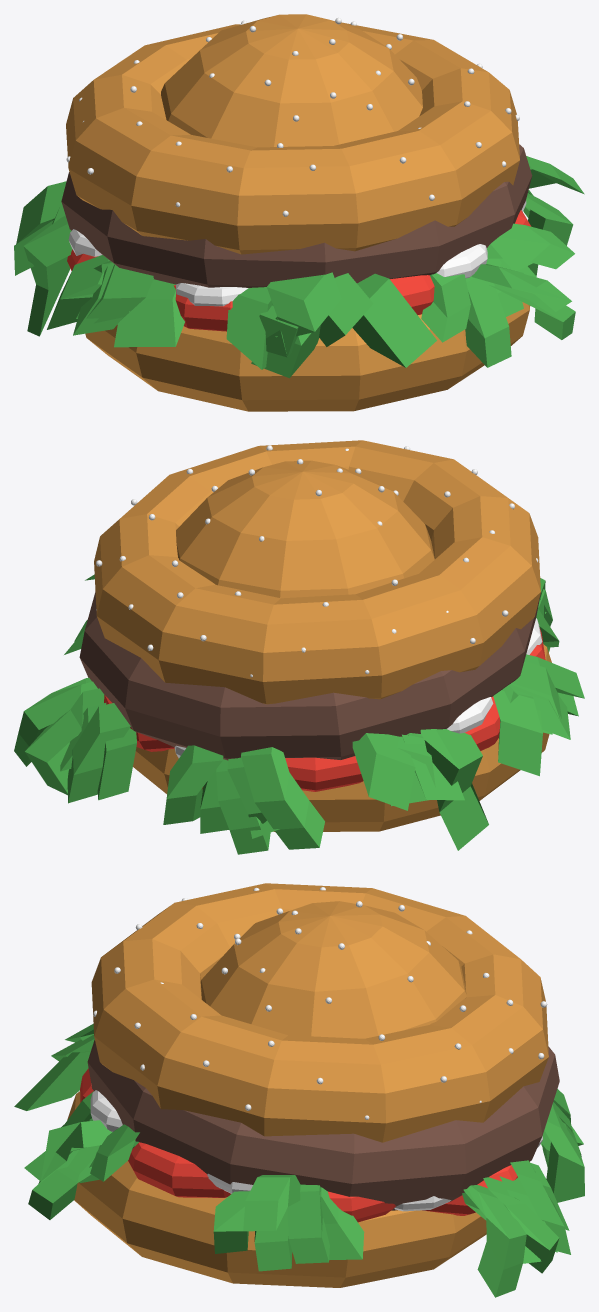
The model's file is hamburguer.obj.
3 views of the same model, one above another, from view 1: azimuth 30°, elevation 25°; view 2: azimuth 150°, elevation 25°; view 3: azimuth 270°, elevation 25° (orthographic). The views are drawn at different scales.
Visible parts, largest first — view 1: group2032292002, group1464799192, group639070488, group1709368097, group482589463, group1571673439, group1679668861, group161991387, group1594550308, group1719193959, group1600831806, group1798643635 (+16 smaller); view 2: group2032292002, group1464799192, group1709368097, group639070488, group425178918, group1679668861, group2062341451, group202491779, group1219905717, group2061250169, group575994472, group158505523 (+13 smaller); view 3: group2032292002, group1464799192, group1709368097, group639070488, group158505523, group2104918668, group939796002, group575994472, group434462167, group1261975170, group329002082, group482589463 (+9 smaller).
Part boxes in pixels (x1,y1,x2,y2): group2032292002: [66, 22, 519, 254]; group1464799192: [161, 14, 422, 147]; group639070488: [85, 302, 530, 411]; group1709368097: [61, 144, 532, 287]; group482589463: [352, 273, 436, 367]; group1571673439: [259, 272, 341, 357]; group1679668861: [23, 215, 72, 336]; group161991387: [465, 276, 511, 367]; group1594550308: [129, 279, 184, 346]; group1719193959: [226, 287, 272, 369]; group1600831806: [487, 223, 574, 269]; group1798643635: [421, 273, 470, 342]; group2032292002: [94, 440, 540, 704]; group1464799192: [176, 460, 434, 598]; group1709368097: [79, 591, 540, 760]; group639070488: [133, 644, 551, 832]; group425178918: [241, 747, 324, 849]; group1679668861: [420, 729, 488, 850]; group2062341451: [352, 733, 415, 810]; group202491779: [493, 689, 542, 776]; group1219905717: [67, 703, 130, 803]; group2061250169: [25, 688, 104, 795]; group575994472: [163, 745, 223, 824]; group158505523: [14, 677, 97, 766]; group2032292002: [91, 883, 548, 1142]; group1464799192: [200, 901, 466, 1038]; group1709368097: [87, 1039, 559, 1210]; group639070488: [67, 1091, 486, 1287]; group158505523: [463, 1185, 526, 1297]; group2104918668: [128, 1142, 230, 1197]; group939796002: [287, 1184, 329, 1263]; group575994472: [544, 1107, 584, 1202]; group434462167: [243, 1175, 300, 1231]; group1261975170: [28, 1145, 99, 1219]; group329002082: [24, 1120, 112, 1181]; group482589463: [14, 1051, 90, 1110].
Size of the model in its own units: 1.71 by 0.9866 by 1.68.
